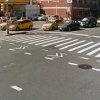Crosswalk: (8, 30, 100, 64)
